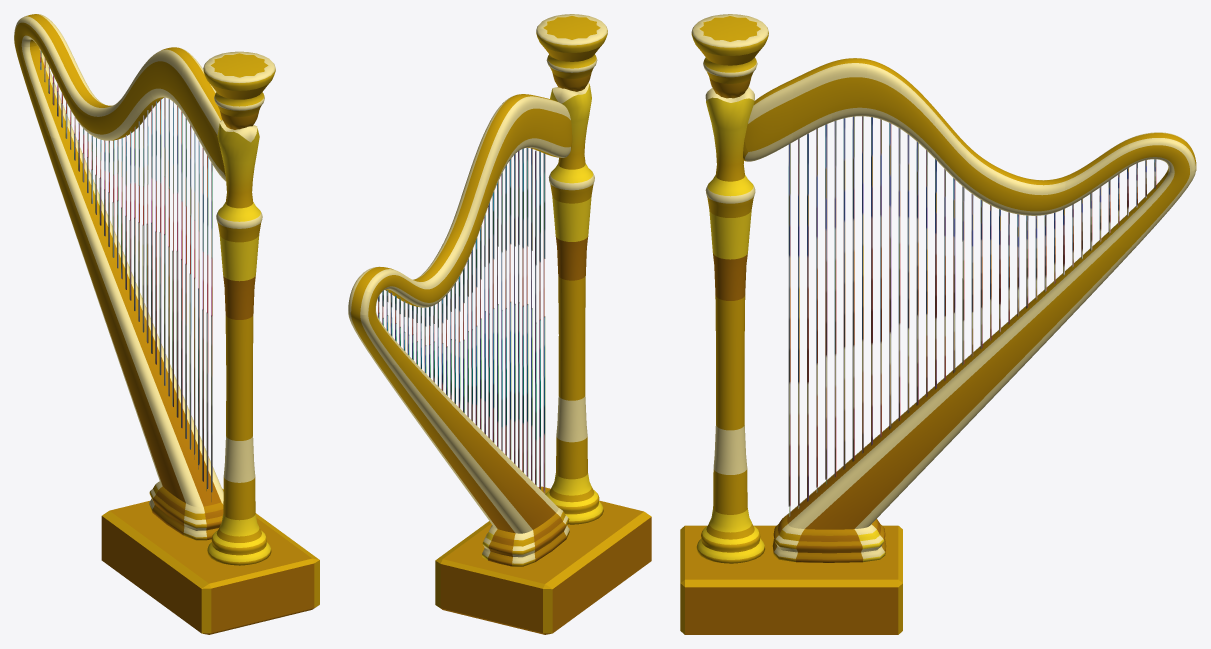
File: Harp.fbx
The picture shows the model from 3 angles, left to right: view 1: azimuth 30°, elevation 25°; view 2: azimuth 150°, elevation 25°; view 3: azimuth 270°, elevation 25°; orthographic projection. The views are drawn at different scales.
Visible parts, largest first — view 1: Harp; view 2: Harp; view 3: Harp.
Part boxes in pixels (box(x1,y1,x2,y2)): Harp: box(14, 14, 319, 634); Harp: box(348, 14, 651, 634); Harp: box(680, 14, 1196, 634).
Bounding box in the file's own units: 114 × 498 × 402.
